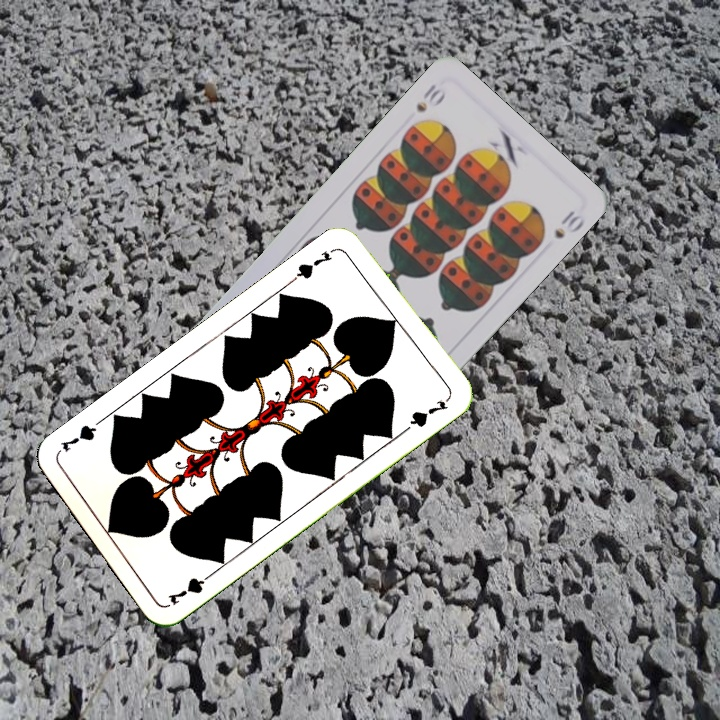G7: (163, 567, 218, 608), (289, 243, 340, 284)
S10: (412, 80, 449, 115)
